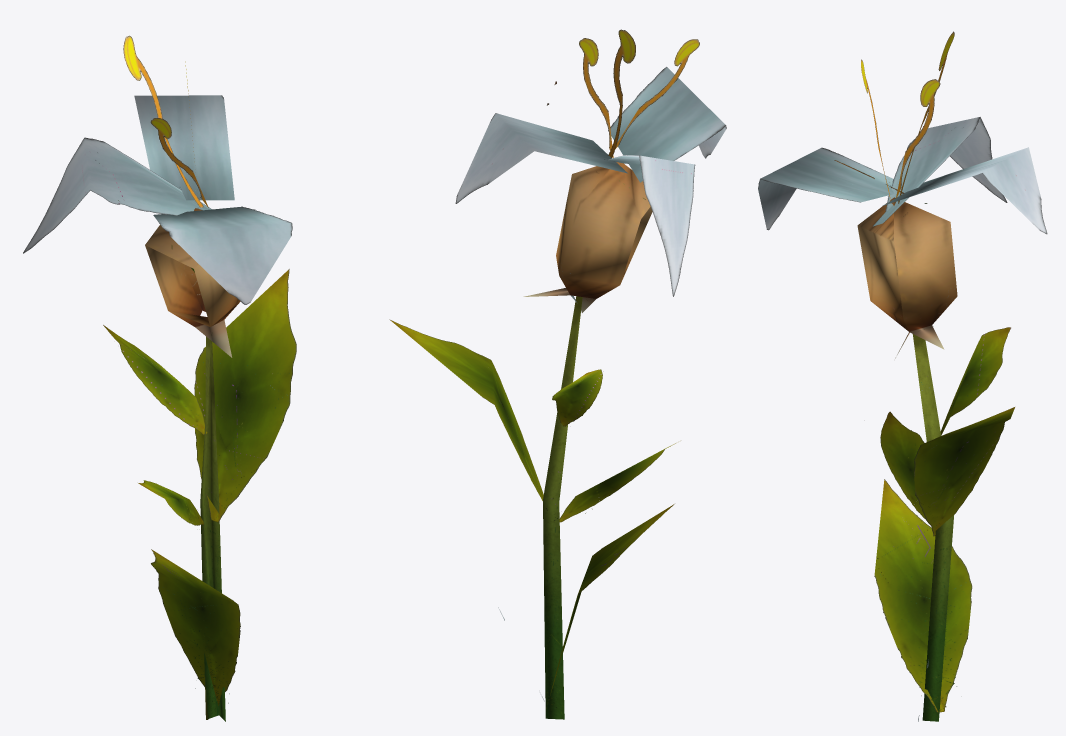
Rendered from flowers3.glb.
3 renders of one model, left to right at view 1: azimuth 30°, elevation 25°; view 2: azimuth 150°, elevation 25°; view 3: azimuth 270°, elevation 25°, orthographic. The views are drawn at different scales.
Parts seen in each view (by area): view 1: flowers.003; view 2: flowers.003; view 3: flowers.003.
Part boxes in pixels (x1,y1,x2,y2): flowers.003: (23,35,296,721); flowers.003: (389,29,726,719); flowers.003: (758,31,1047,721).
Bounding box in the file's own units: 0.3906 × 0.9408 × 0.3778.
1 material, 1 textured.
